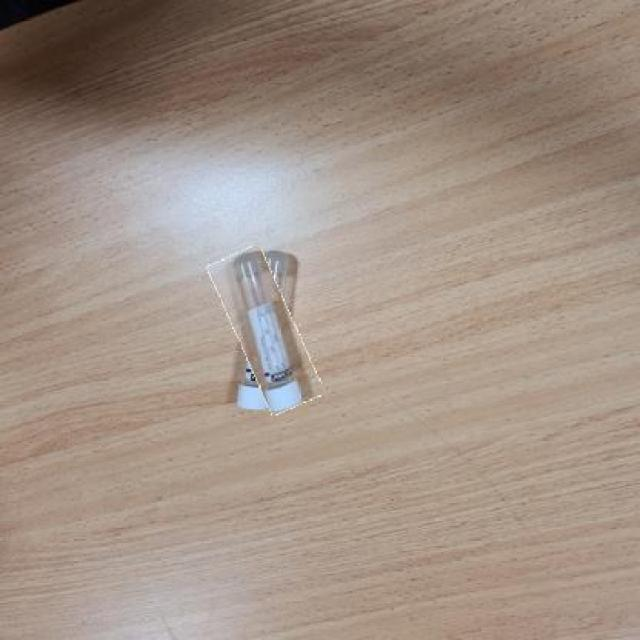Experimental-tube: (222, 246, 308, 412)
